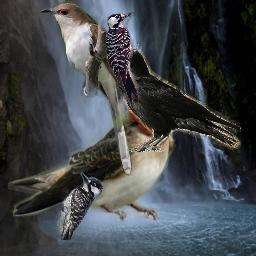Crow: (100, 48, 241, 152)
Cuckoo: (38, 1, 132, 176)
Swallow: (8, 91, 188, 223)
Woodpecker: (48, 171, 103, 240), (106, 12, 139, 105)
